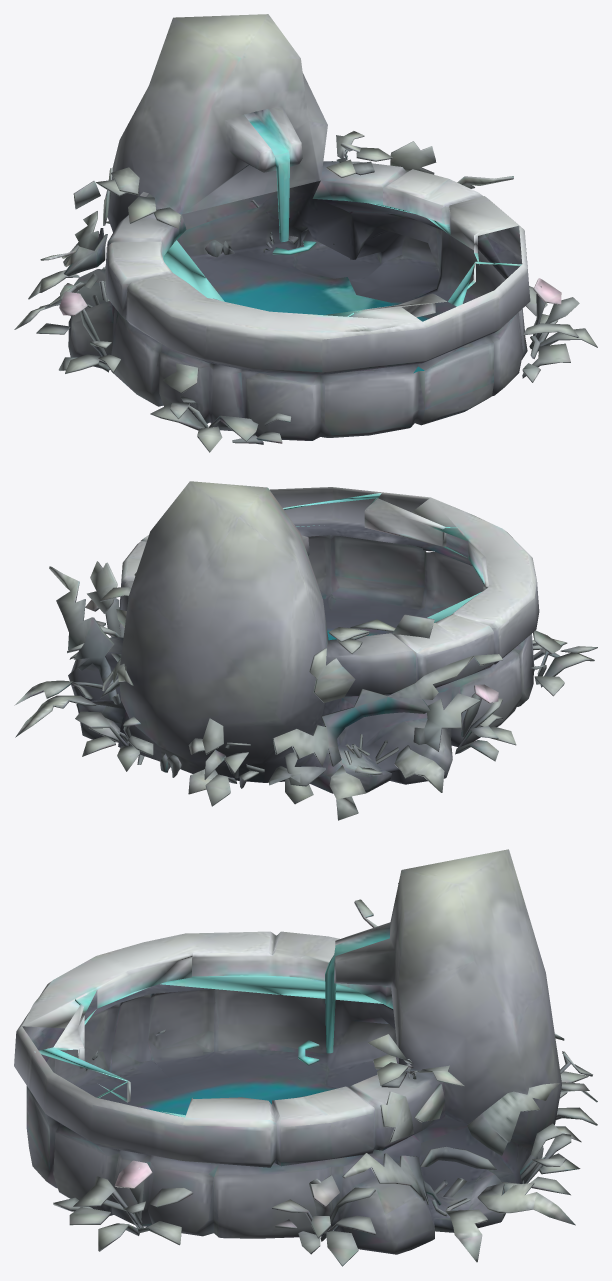
The model's file is spring-frost.glb.
3 renders of one model, top to bottom at view 1: azimuth 30°, elevation 25°; view 2: azimuth 150°, elevation 25°; view 3: azimuth 270°, elevation 25°, orthographic. The views are drawn at different scales.
Parts seen in each view (by area): view 1: spring-frost; view 2: spring-frost; view 3: spring-frost.
Part boxes in pixels (x1,y1,x2,y2): spring-frost: [14, 14, 597, 452]; spring-frost: [14, 481, 597, 820]; spring-frost: [14, 849, 597, 1266].
Size of the model in its own units: 0.998 by 0.5499 by 0.9883.
Materials: 1 (1 with a texture image).
